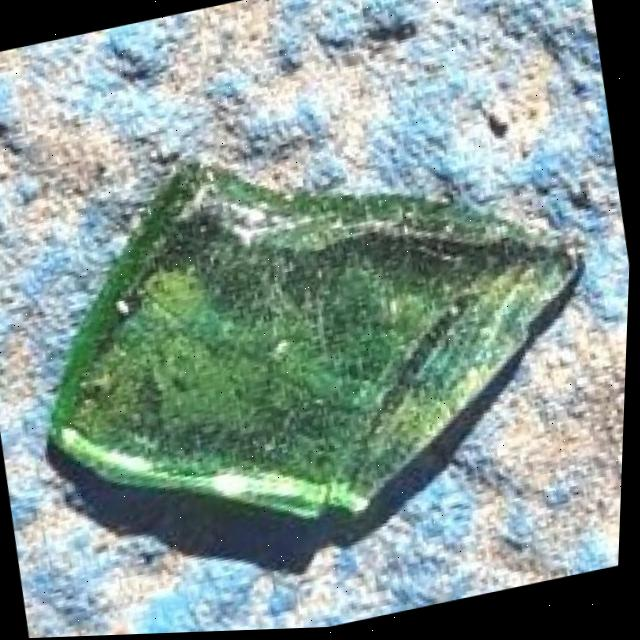Dry: (9, 90, 633, 593)
